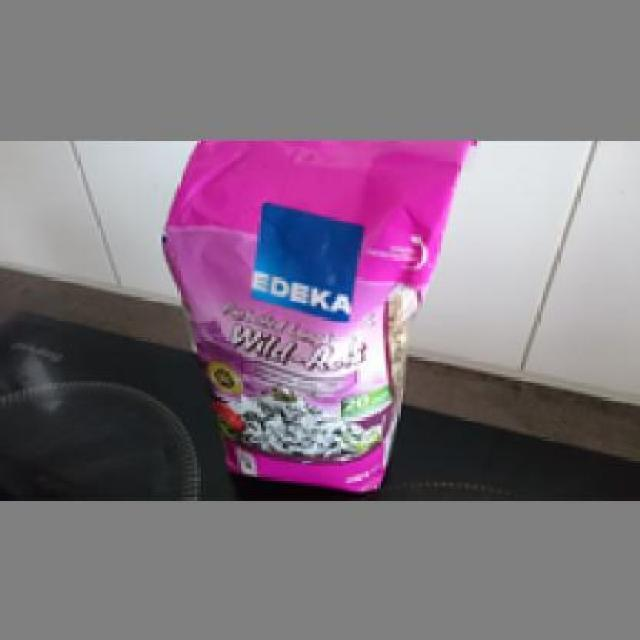Rice: (157, 137, 480, 490)
